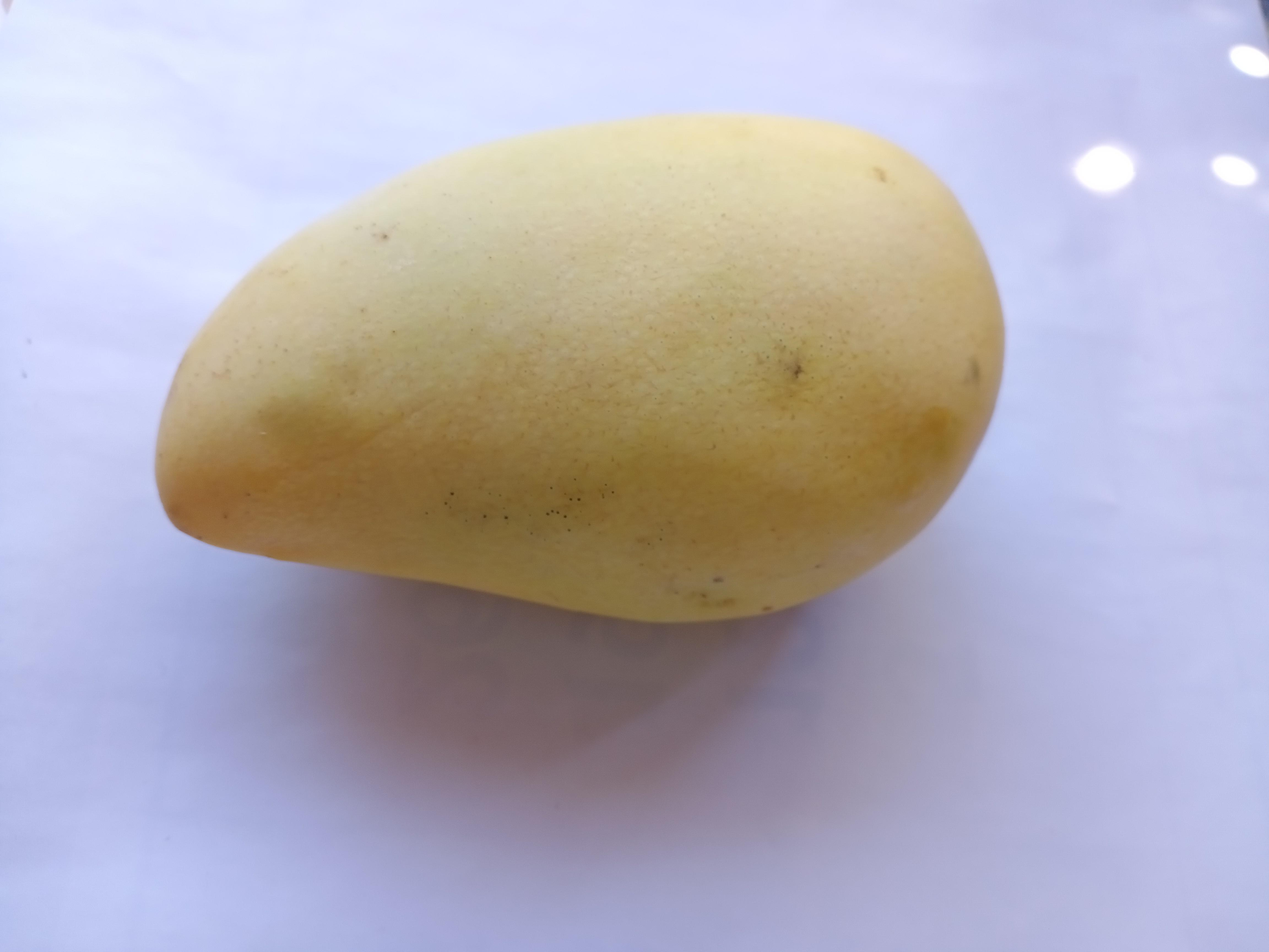Mango Ripe: (127, 83, 1058, 705)
